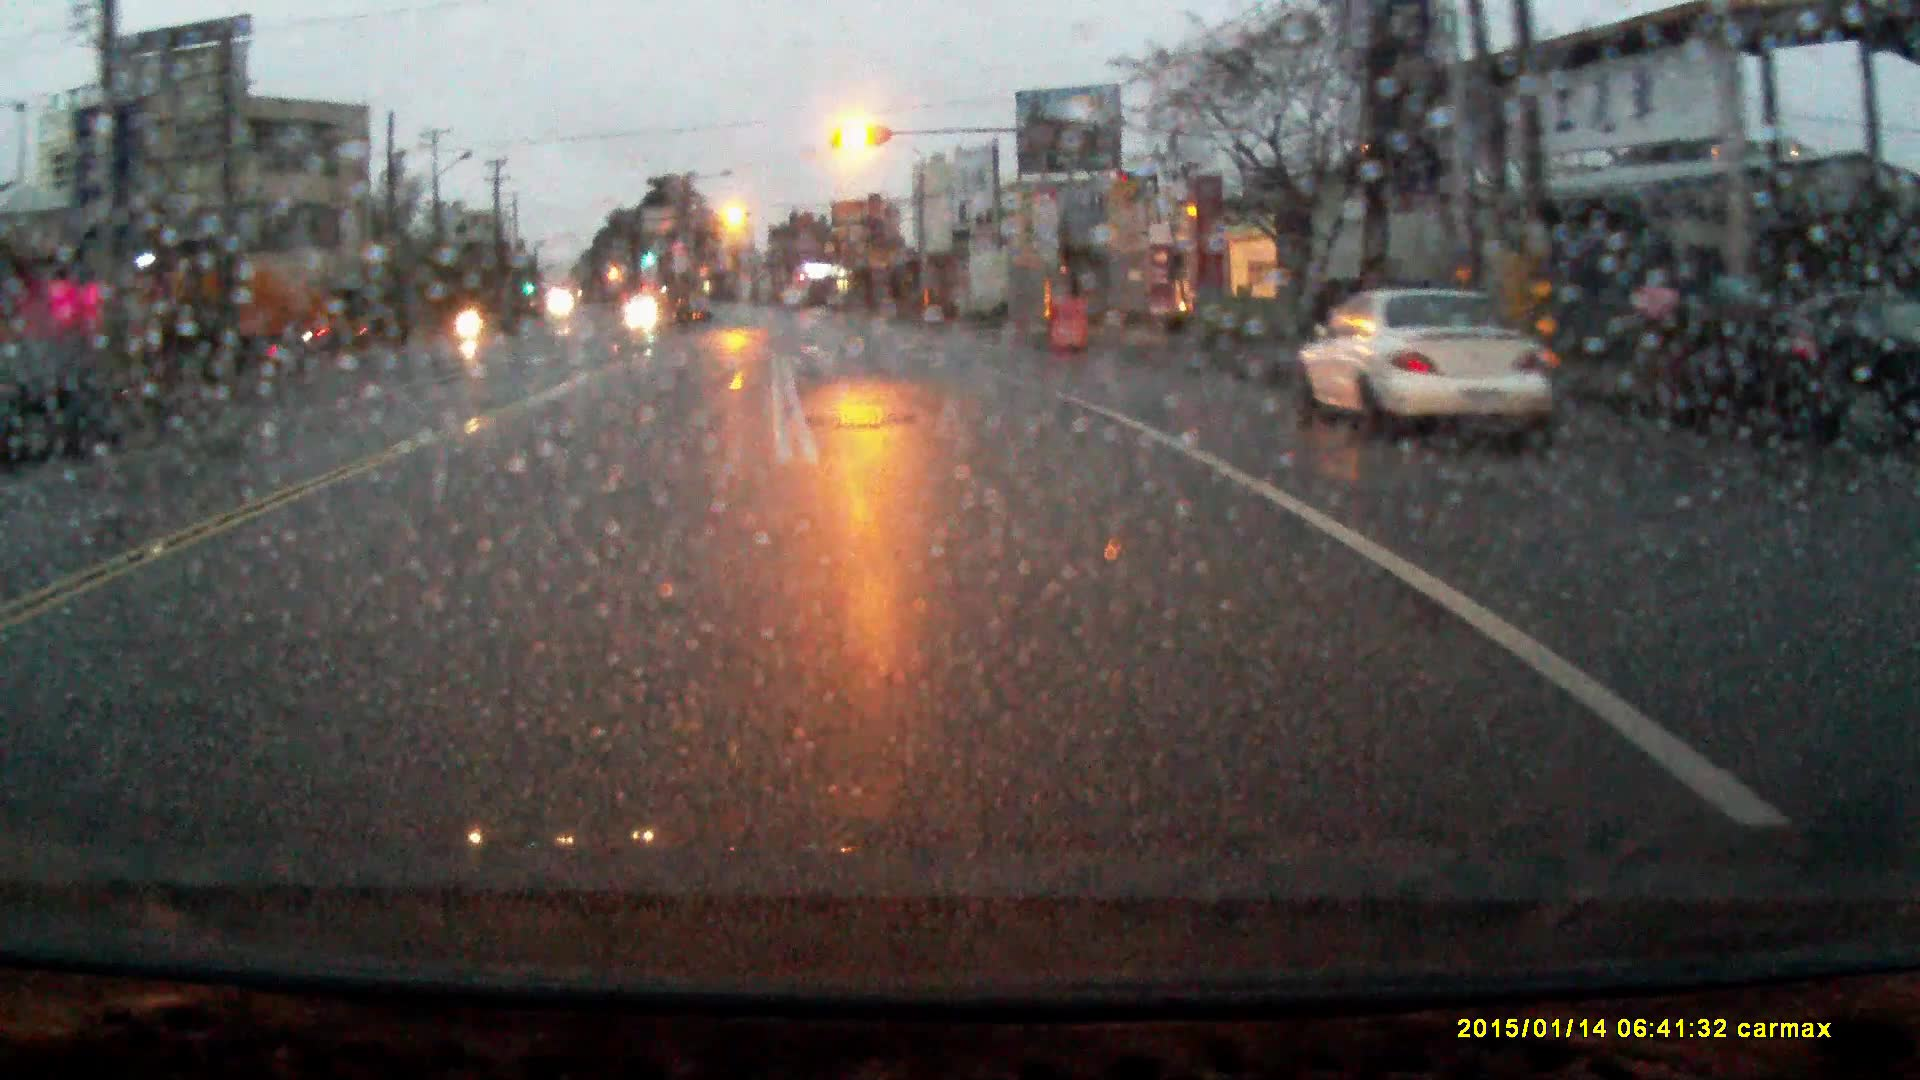rider: (456, 290, 486, 344)
vehicle: (1297, 294, 1572, 447), (149, 257, 380, 357), (5, 338, 151, 456), (624, 300, 658, 332)
